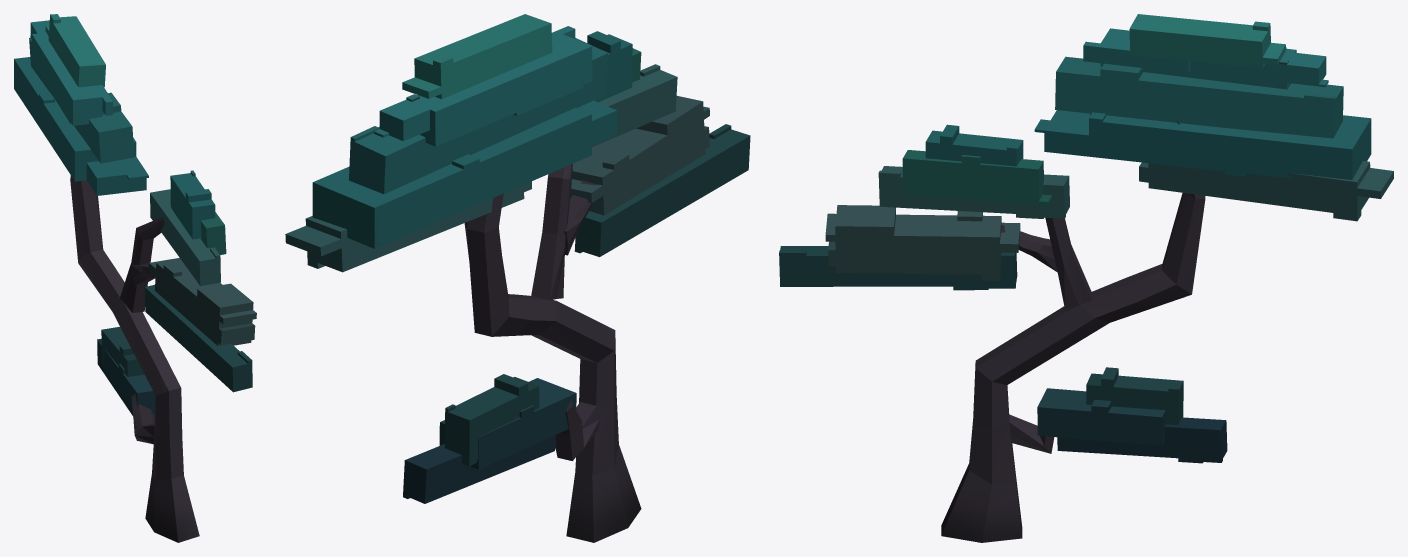
File: Bonsai 3.obj
3 renders of one model, left to right at view 1: azimuth 30°, elevation 25°; view 2: azimuth 150°, elevation 25°; view 3: azimuth 270°, elevation 25°, orthographic. The views are drawn at different scales.
Parts seen in each view (by area): view 1: Bonsai 3; view 2: Bonsai 3; view 3: Bonsai 3.
Boxes of the visible parts, left/top/right/bottom form: Bonsai 3: left=14, top=14, right=256, bottom=542; Bonsai 3: left=285, top=14, right=750, bottom=542; Bonsai 3: left=779, top=14, right=1393, bottom=542.
Bounding box in the file's own units: 0.8208 × 2.99 × 3.27.
Materials: 1 (1 with a texture image).
